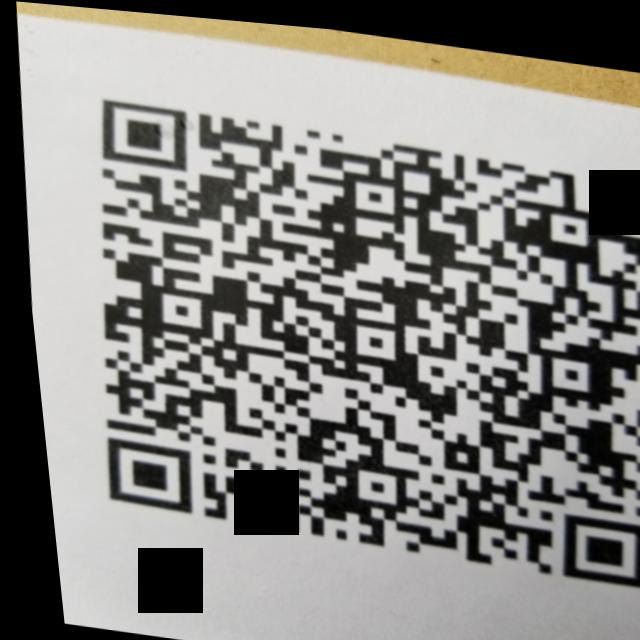QR_CODE: (29, 68, 640, 606)
